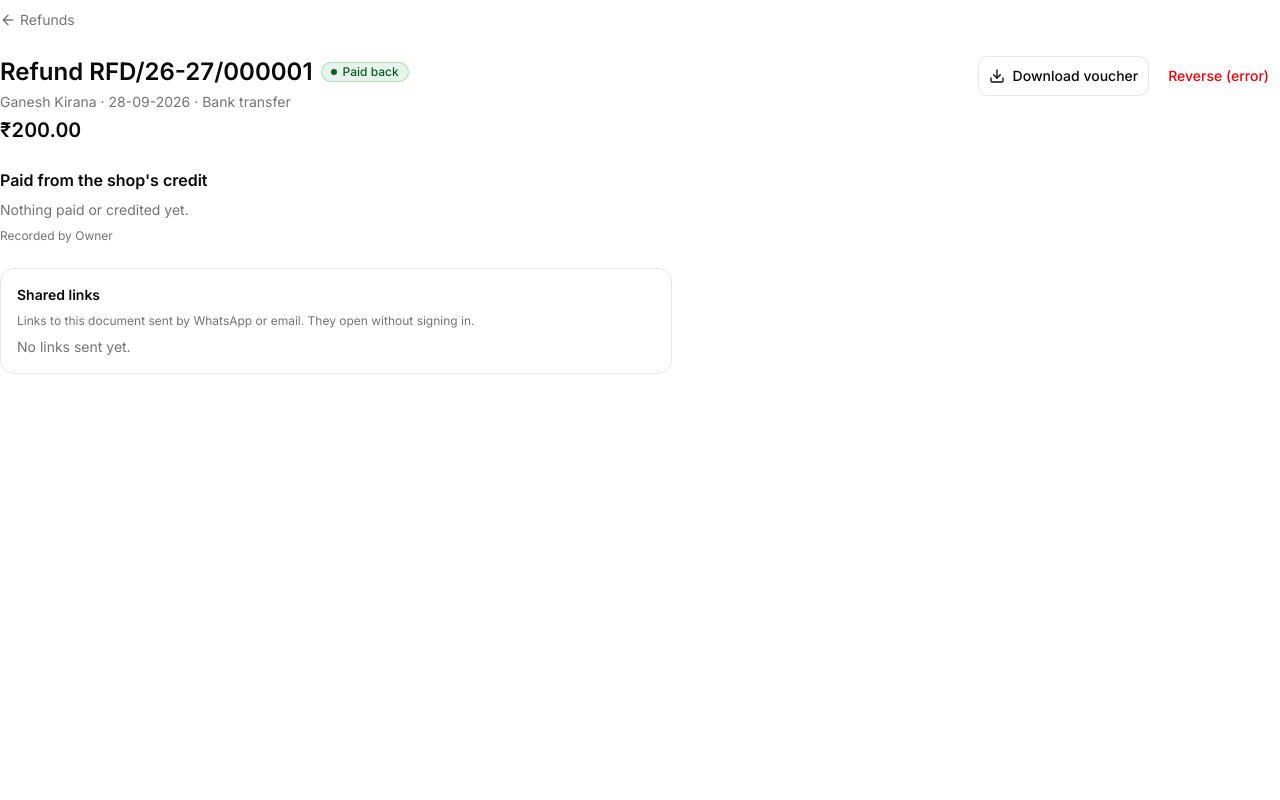
Test: A refund › is reversed with a reason by someone who records payments
Click the button "Reverse (error)". click: (1219, 76)
box: 1157,56 -> 1279,96
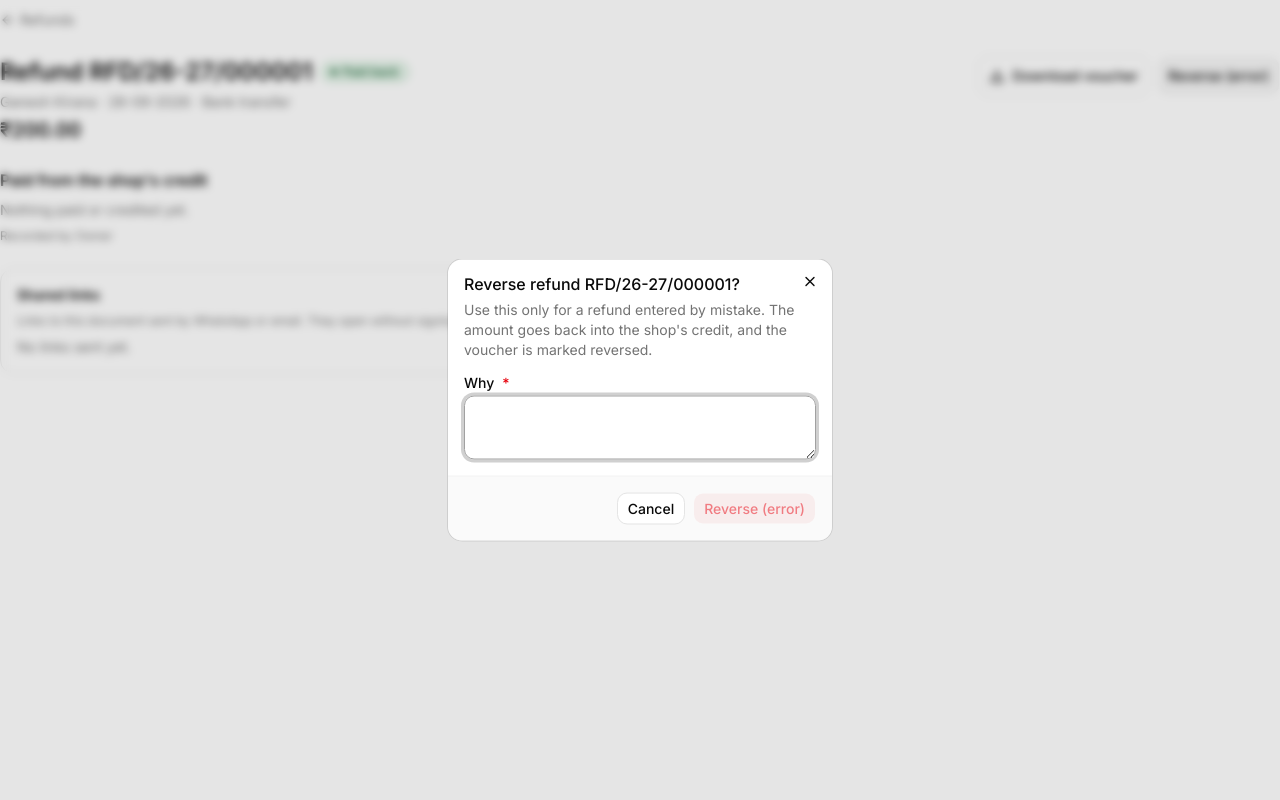
Type "Paid to the wrong shop" into the text box labelled "Why *". click: (640, 428)
box: 464,396 -> 816,460
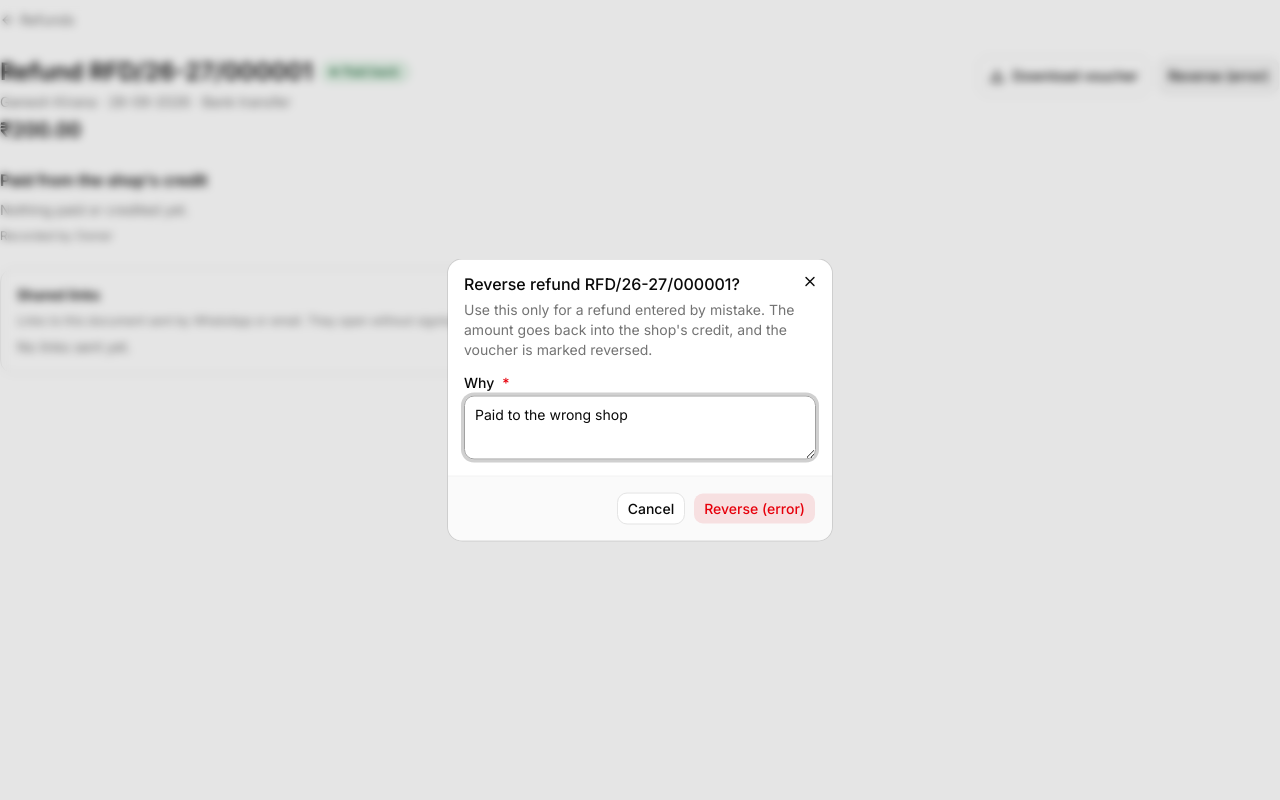
Click the button "Reverse (error)". click: (755, 508)
box: 693,492 -> 816,524
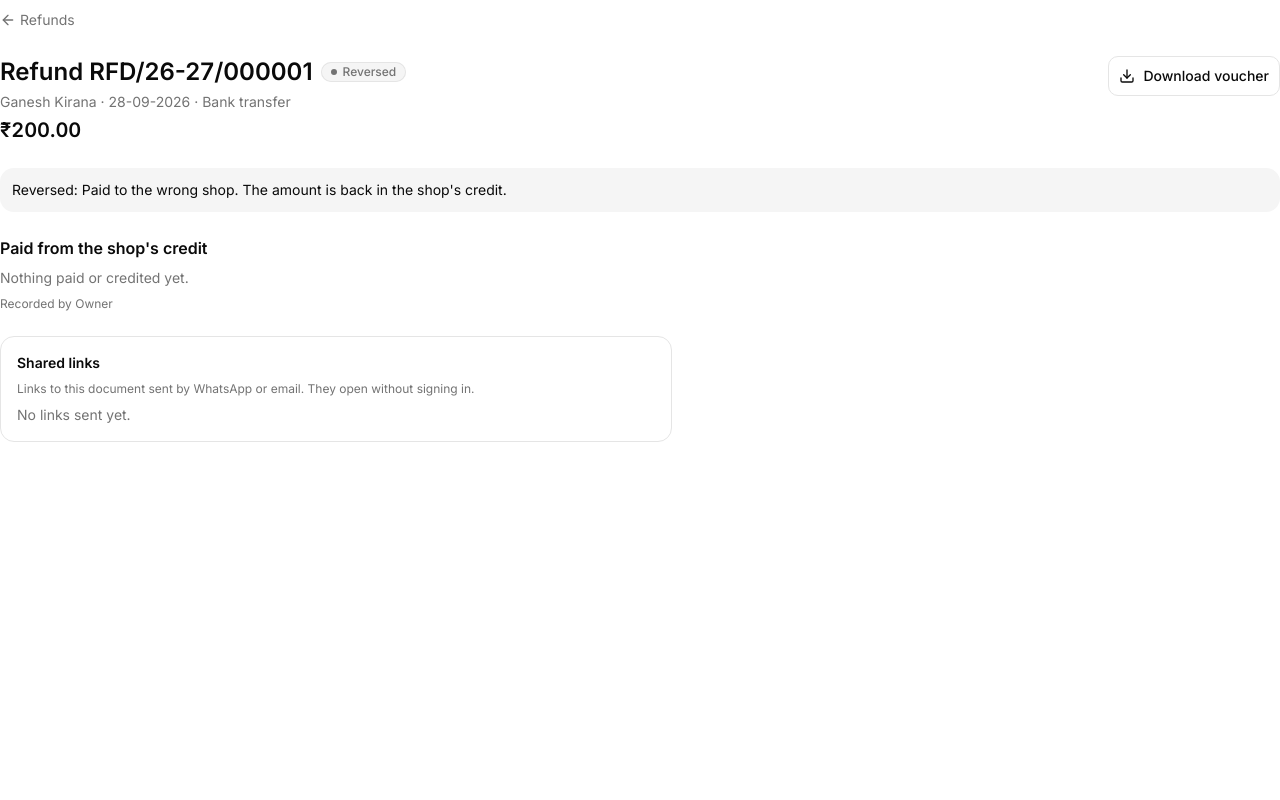
Expected: the text "The amount is back in the shop's credit" is shown, 12,181 -> 507,198
Expected: the button "Reverse (error)" is gone
